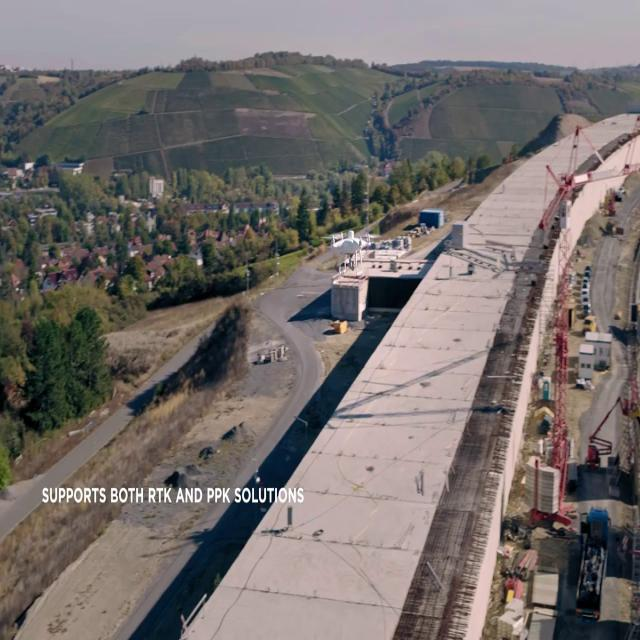drone: (321, 228, 382, 276)
